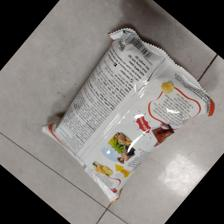Lays: (37, 25, 216, 202)
